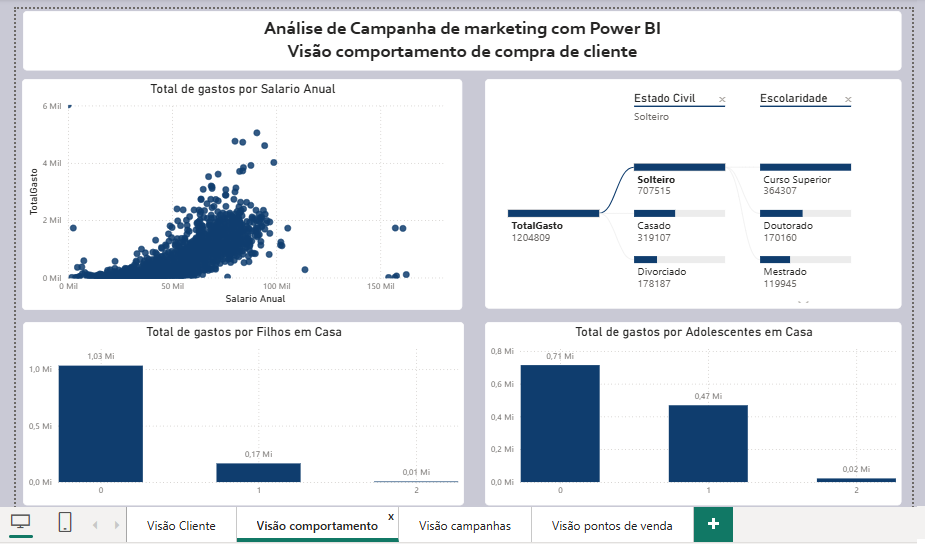

What the dashboard file says about the page in this screenshot:
{"tool":"powerbi","page":{"name":"Visão comportamento","canvas":[1280,720],"ordinal":1},"visuals":[{"type":"scatterChart","title":"Total de gastos por Salario Anual","fields":{"X":["Dados marketing.Salario Anual"],"Y":["Dados marketing.TotalGasto"]},"box":[8.6,99.4,629.3,329.8],"z":0},{"type":"clusteredColumnChart","title":"Total de gastos por Filhos em Casa","fields":{"Y":["Dados marketing.TotalGasto"],"Category":["Dados marketing.Filhos em Casa"]},"box":[10,446.7,630,261.7],"z":1000},{"type":"clusteredColumnChart","title":"Total de gastos por Adolescentes em Casa","fields":{"Category":["Dados marketing.Adolescentes em Casa"],"Y":["Dados marketing.TotalGasto"]},"box":[670,446.7,595,261.7],"z":2000},{"type":"textbox","box":[10,3.3,1255,85],"z":4000},{"type":"decompositionTreeVisual","fields":{"Analyze":["Dados marketing.TotalGasto"],"ExplainBy":["Dados marketing.Estado Civil","Dados marketing.Escolaridade"]},"box":[670,100,595,328.3],"z":5000}]}

Visuals, with their boxes on the page's 1280x720 design canvas (x1, y1, x2, y2). These are canvas units, not pixel positions in the 925x544 screenshot, which may show the page scaled, cropped or inside an application window:
"Total de gastos por Salario Anual" scatterChart: <box>9,99,638,429</box>
"Total de gastos por Filhos em Casa" clusteredColumnChart: <box>10,447,640,708</box>
"Total de gastos por Adolescentes em Casa" clusteredColumnChart: <box>670,447,1265,708</box>
textbox: <box>10,3,1265,88</box>
decompositionTreeVisual - Dados marketing.TotalGasto x Dados marketing.Estado Civil: <box>670,100,1265,428</box>
